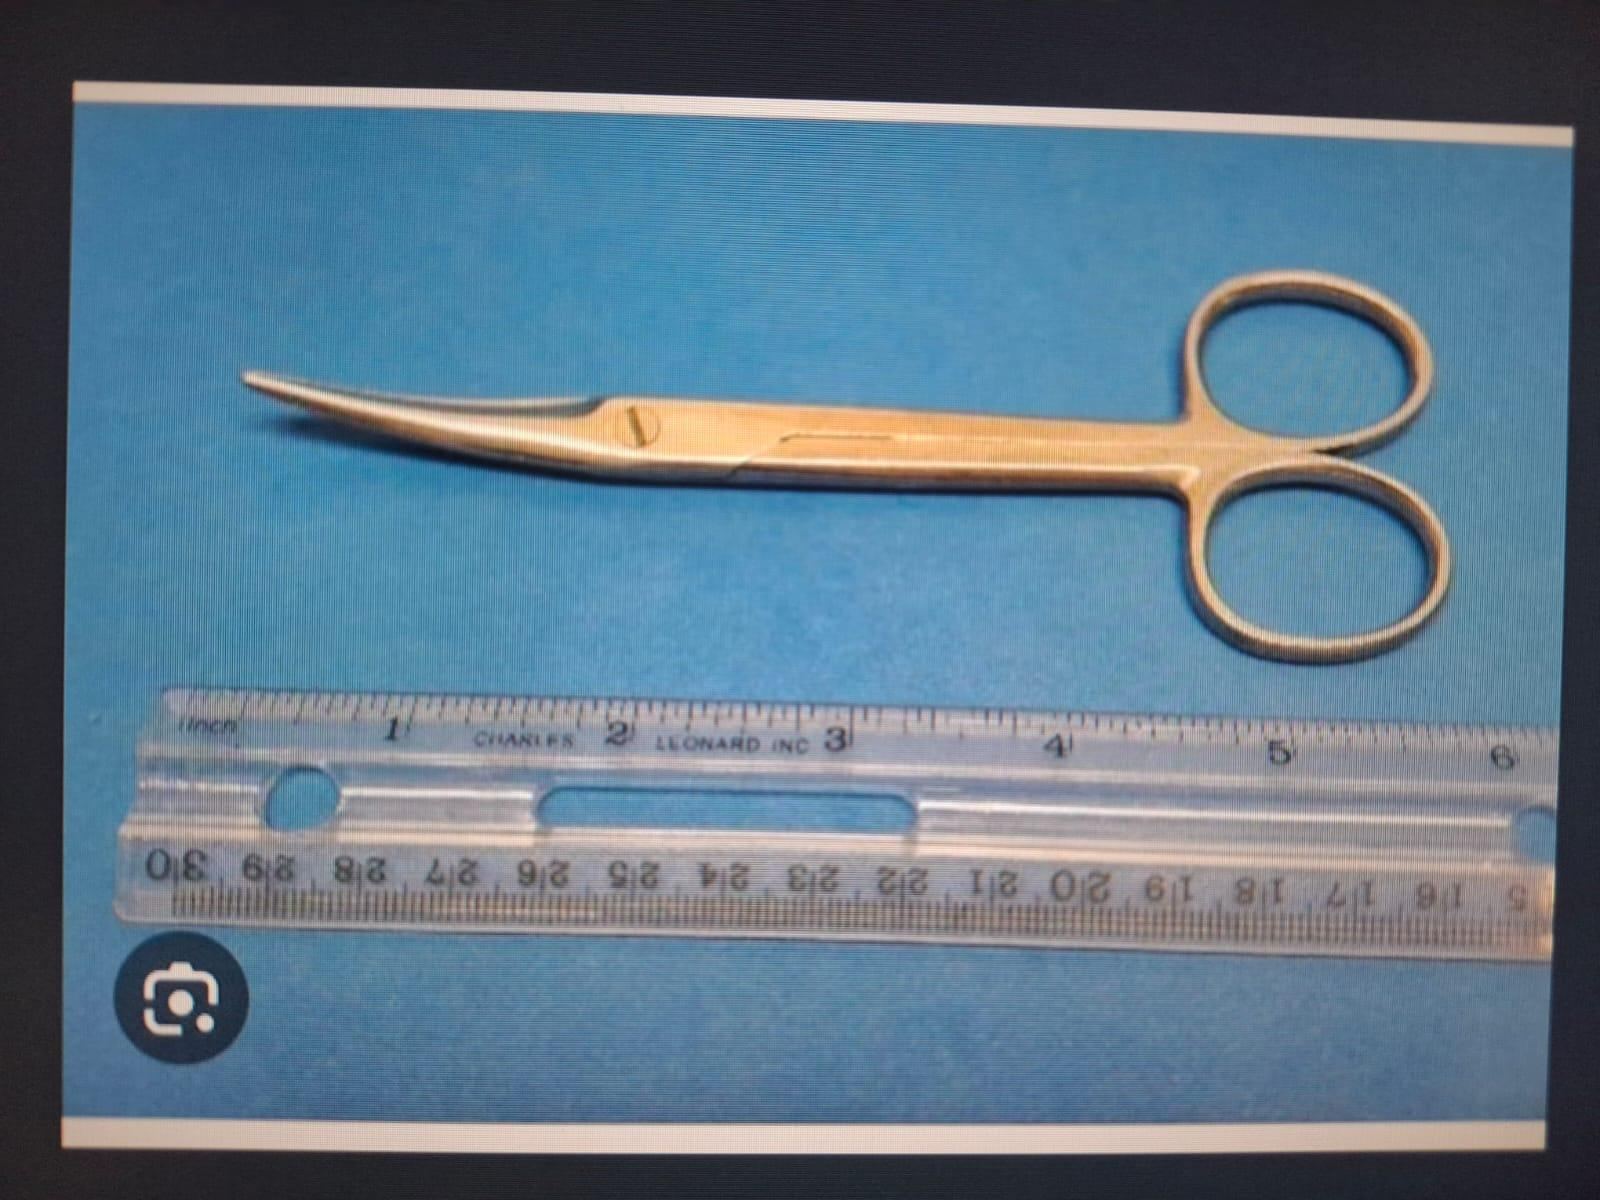Curved Mayo: (232, 276, 1458, 658)
